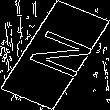N_SE: (15, 25, 95, 85)
